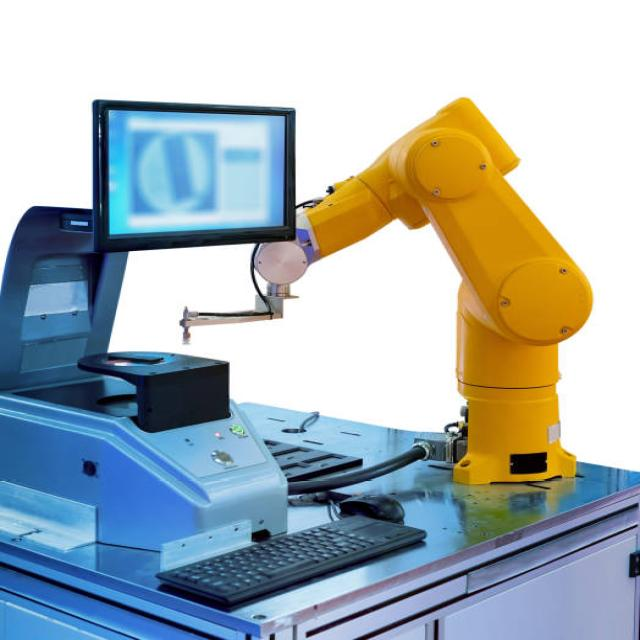Robotic-arm: (252, 91, 598, 498)
